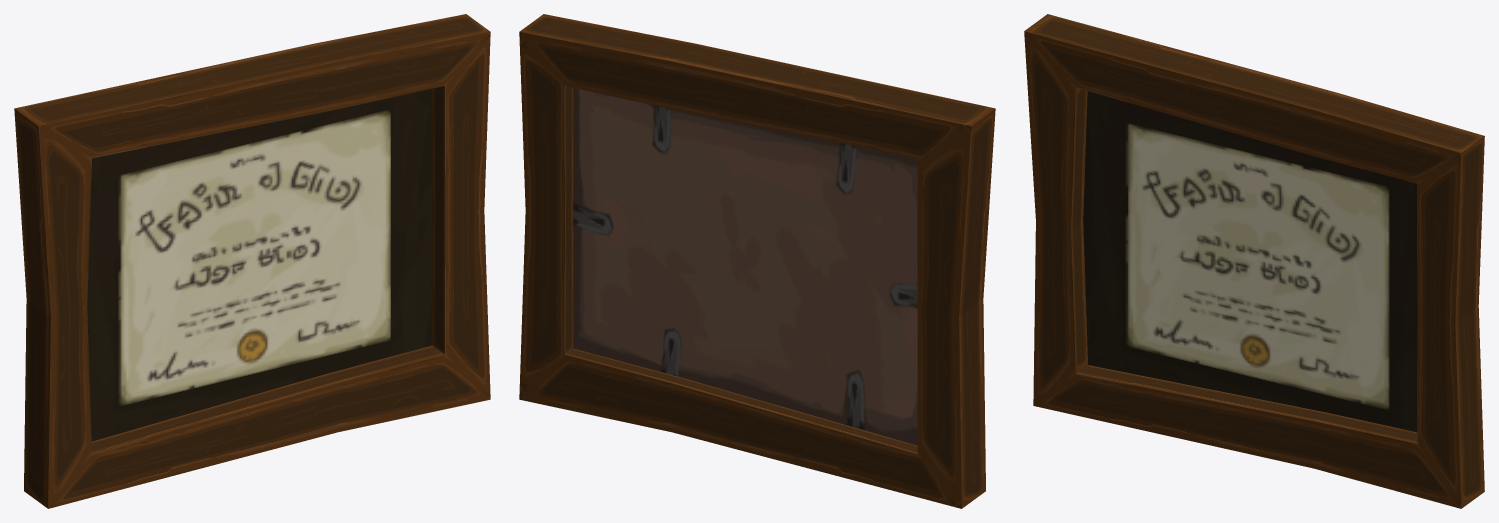
File: SM_PROP_painting_interior_05.fbx
3 views of the same model, side by side, from view 1: azimuth 30°, elevation 25°; view 2: azimuth 150°, elevation 25°; view 3: azimuth 330°, elevation 25° (orthographic). The views are drawn at different scales.
Visible parts, largest first — view 1: SM_PROP_painting_interior_05; view 2: SM_PROP_painting_interior_05; view 3: SM_PROP_painting_interior_05.
Boxes of the visible parts, x1=… form: SM_PROP_painting_interior_05: x1=14, y1=14, x2=490, y2=508; SM_PROP_painting_interior_05: x1=519, y1=14, x2=995, y2=508; SM_PROP_painting_interior_05: x1=1024, y1=14, x2=1484, y2=508.
Size of the model in its own units: 54.17 by 44.09 by 5.05.
